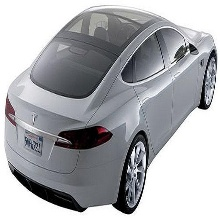no damage: (4, 5, 218, 215)
